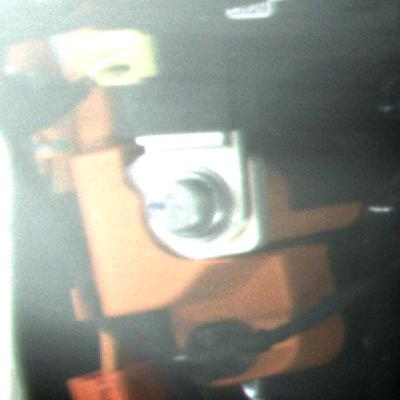nut_b: (155, 156, 235, 251)
